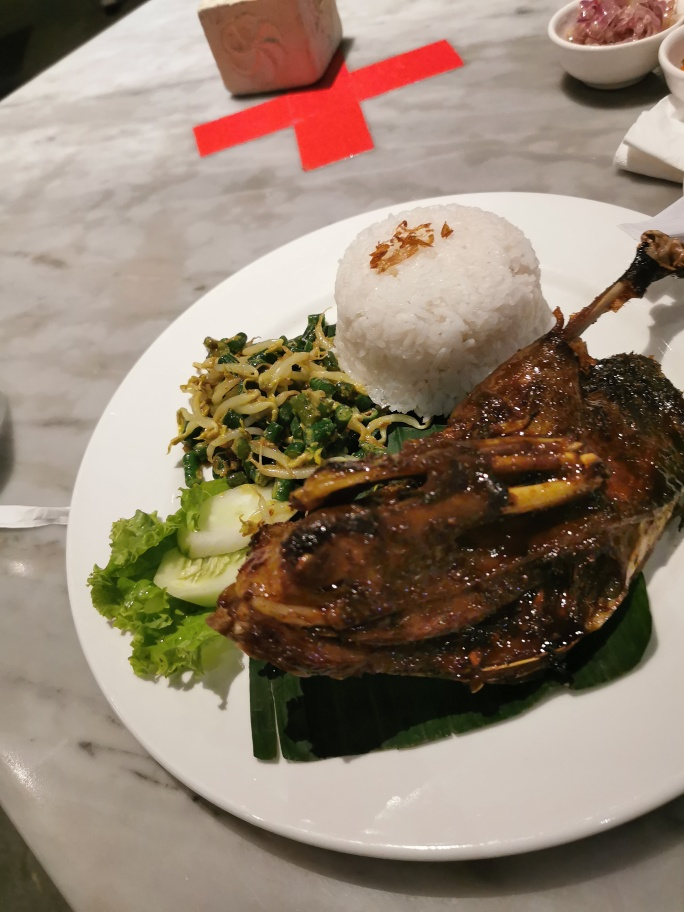bebek bakar: (230, 229, 684, 676)
nasi putih: (318, 202, 567, 406)
